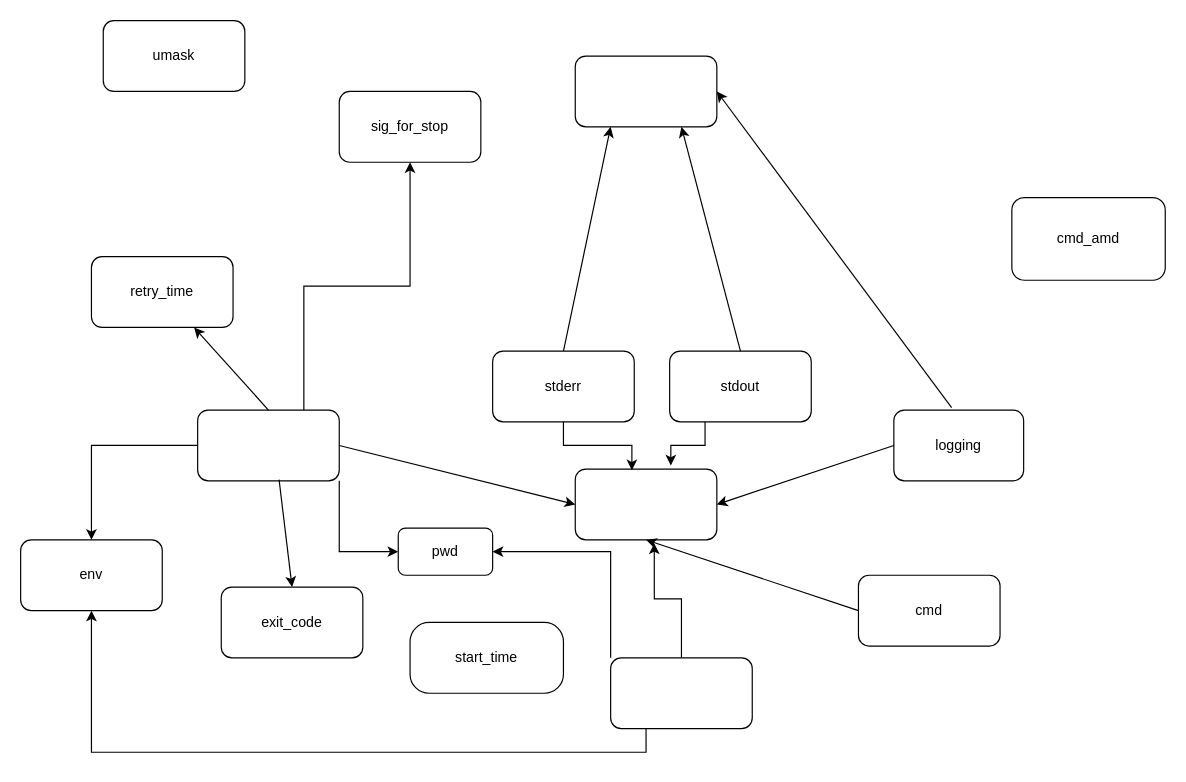
This 1186x782 diagram has some shape labels left out. Each missing label, with the box of its shape:
auto_restart: (196, 409, 339, 481)
auto_start: (609, 657, 752, 729)
name: (574, 468, 717, 540)
PID: (574, 55, 717, 127)
